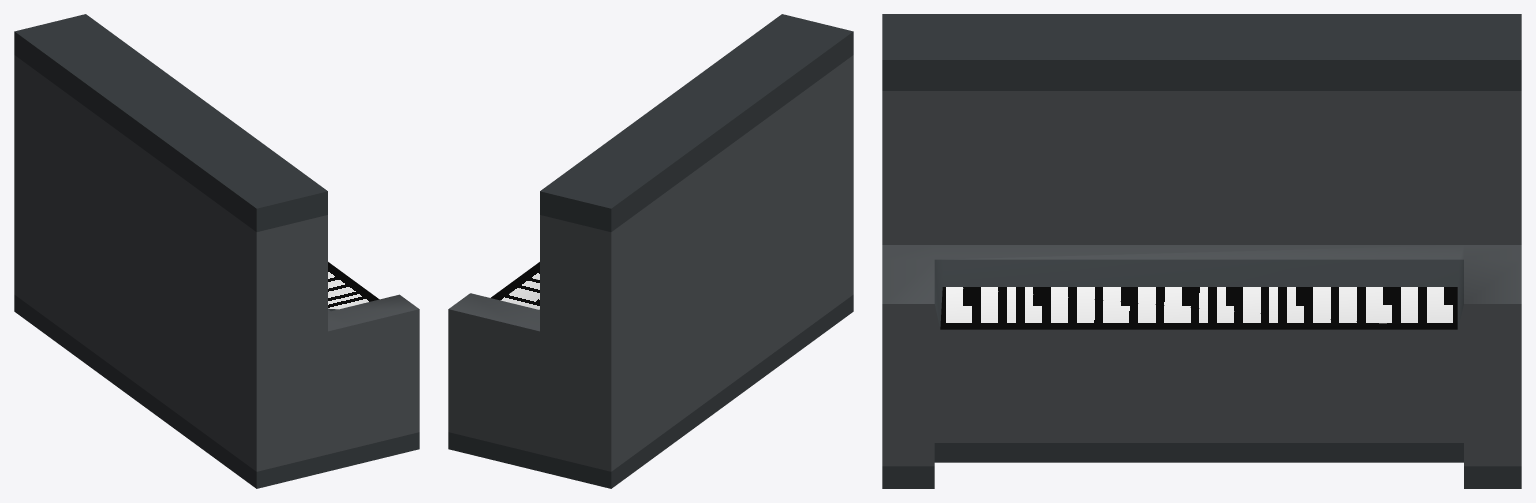
Rendered from piano.fbx.
The picture shows the model from 3 angles, left to right: view 1: azimuth 30°, elevation 25°; view 2: azimuth 150°, elevation 25°; view 3: azimuth 270°, elevation 25°; orthographic projection. The views are drawn at different scales.
Visible parts, largest first — view 1: pCube13; view 2: pCube13; view 3: pCube13.
Boxes of the visible parts, box(x1,y1,x2,y2) form: pCube13: box(14, 14, 419, 488); pCube13: box(448, 14, 853, 488); pCube13: box(882, 14, 1521, 488).
Size of the model in its own units: 2.28 by 3.75 by 5.87.
